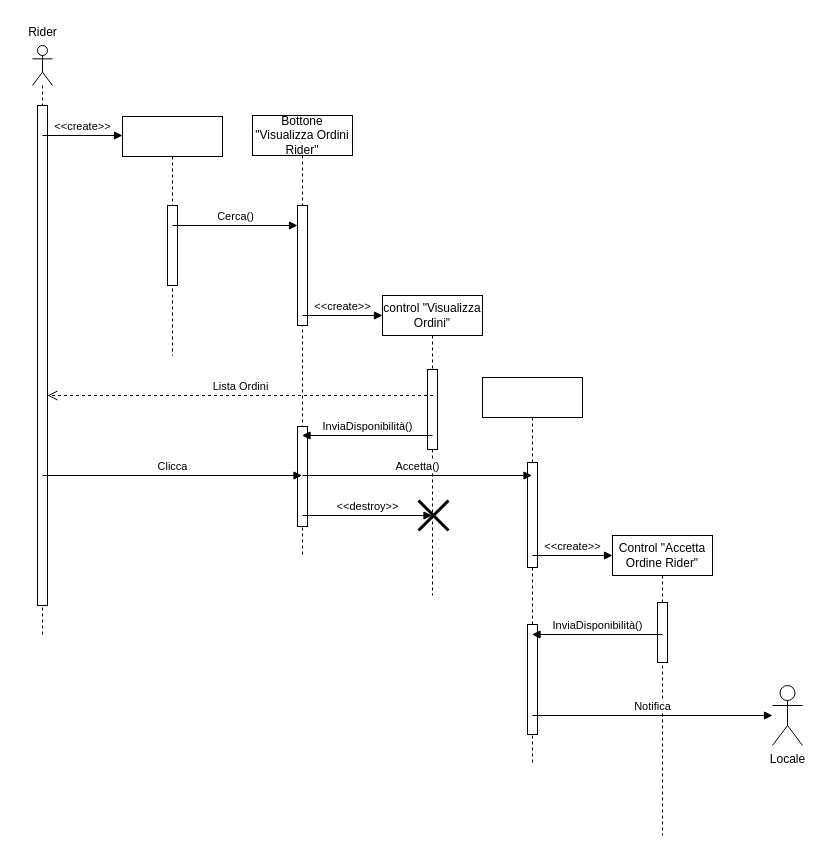
Image size: 822x853. Some labels were removed from this diagram. The shapes that lost their labels are listed below. From the top down, each one's centre as x and y in pixels, then its label:
point 172,236: Geolocalizzazione
point 532,571: Bottone"Accetta Ordine"
